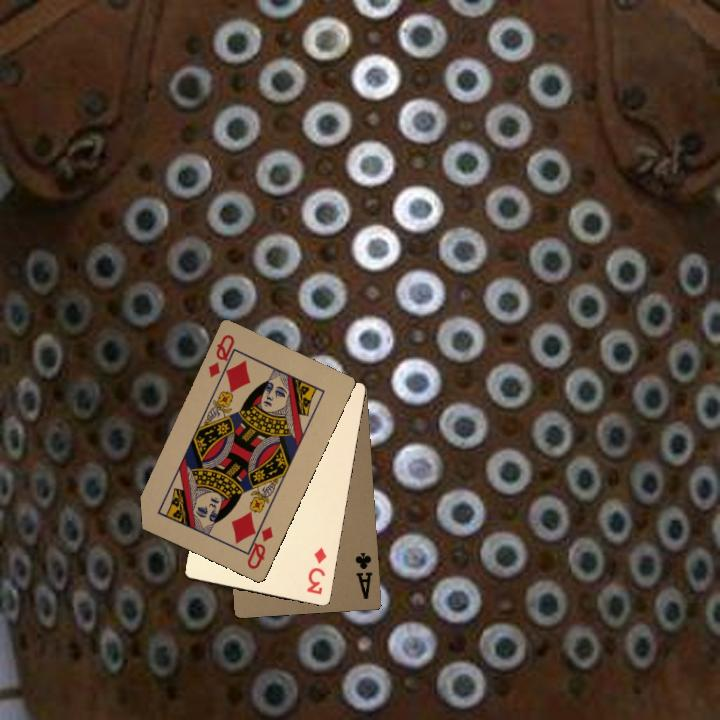3d: (303, 543, 329, 597)
Ac: (351, 548, 375, 602)
Qd: (204, 330, 240, 384), (243, 516, 276, 572)
